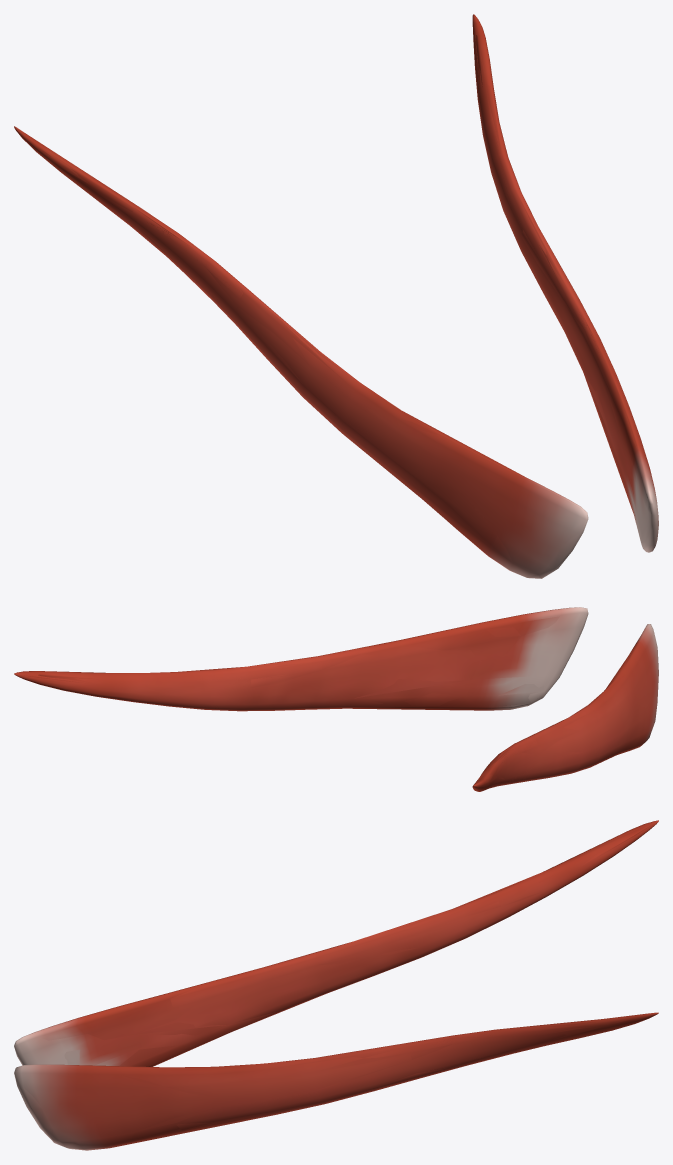
The model's file is Caninus.fbx.
3 views of the same model, one above another, from view 1: azimuth 30°, elevation 25°; view 2: azimuth 150°, elevation 25°; view 3: azimuth 270°, elevation 25° (orthographic). The views are drawn at different scales.
Visible parts, largest first — view 1: Caninus, Caninus low; view 2: Caninus, Caninus low; view 3: Caninus, Caninus low.
Boxes of the visible parts, box(x1,y1,x2,y2) form: Caninus: box(14, 14, 658, 578); Caninus low: box(16, 22, 658, 578); Caninus: box(14, 607, 658, 791); Caninus low: box(21, 613, 653, 788); Caninus: box(14, 820, 658, 1150); Caninus low: box(16, 823, 652, 1148).
Size of the model in its own units: 9.17 by 4.6 by 12.97.
Materials: 1 (1 with a texture image).
